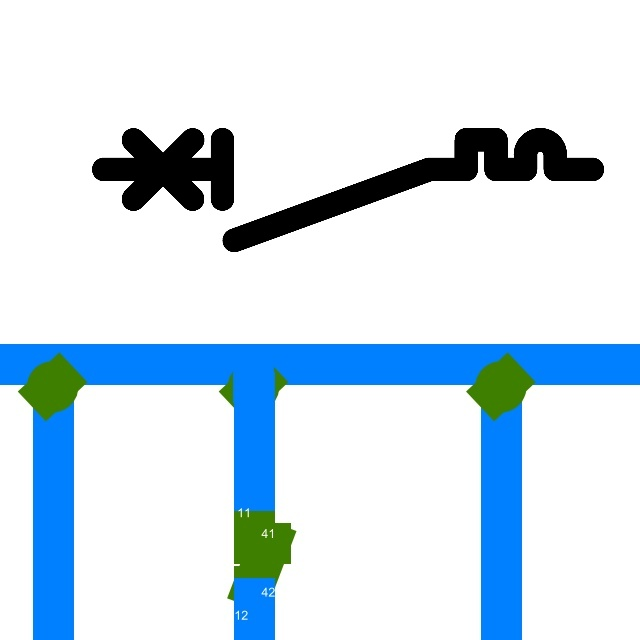interruptor_termomagnetico: (91, 127, 605, 252)
